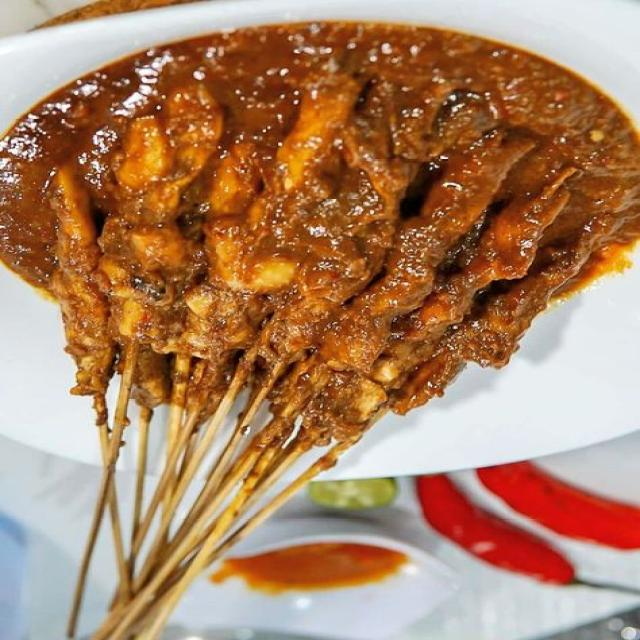sate: (0, 17, 640, 640)
